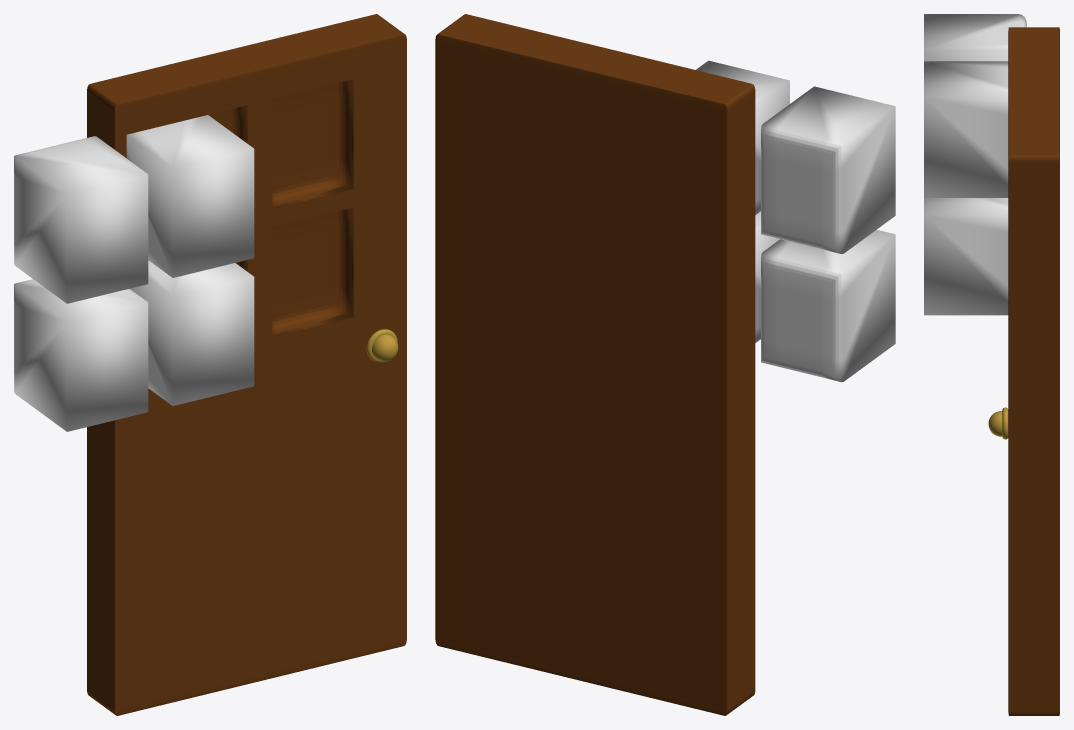
File: porta.glb
3 views of the same model, side by side, from view 1: azimuth 30°, elevation 25°; view 2: azimuth 150°, elevation 25°; view 3: azimuth 270°, elevation 25° (orthographic). The views are drawn at different scales.
Visible parts, largest first — view 1: Porta, Cube.001; view 2: Porta, Cube.001; view 3: Porta, Cube.001.
Boxes of the visible parts, bbox=[...] form: Porta: bbox=[87, 14, 406, 715]; Cube.001: bbox=[14, 115, 254, 431]; Porta: bbox=[435, 14, 755, 715]; Cube.001: bbox=[696, 60, 895, 382]; Porta: bbox=[988, 27, 1059, 715]; Cube.001: bbox=[924, 14, 1026, 315].
Bounding box in the file's own units: 31.7 × 48 × 10.55.
